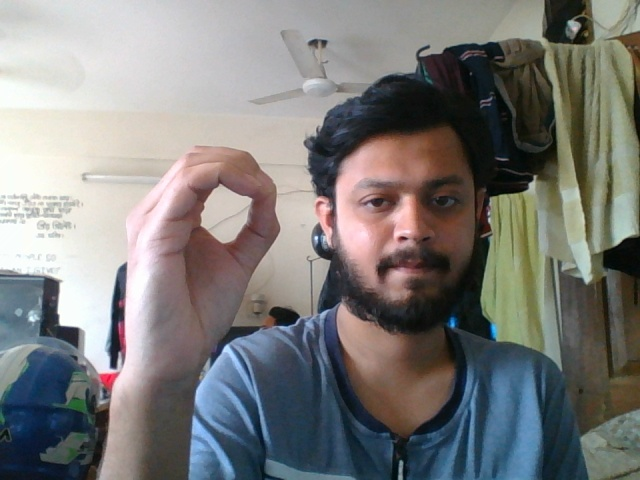oo: (119, 139, 286, 419)
